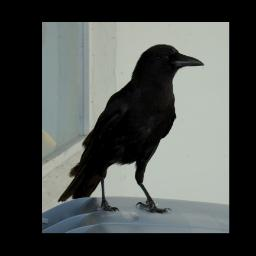Crow: (58, 44, 206, 216)
